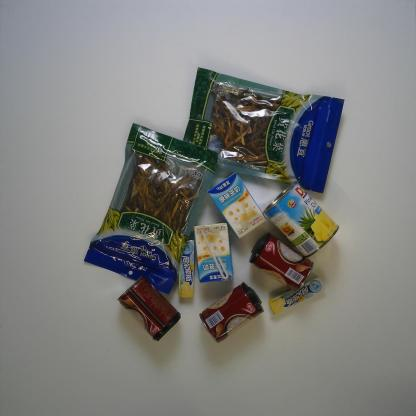Candy: (268, 276, 324, 316), (178, 240, 195, 299)
Canned Food: (262, 180, 340, 259), (116, 276, 182, 342), (198, 281, 265, 344), (248, 232, 313, 292)
Dried Food: (83, 122, 218, 295), (182, 67, 344, 195)
Milk: (207, 172, 267, 240), (194, 222, 234, 284)
